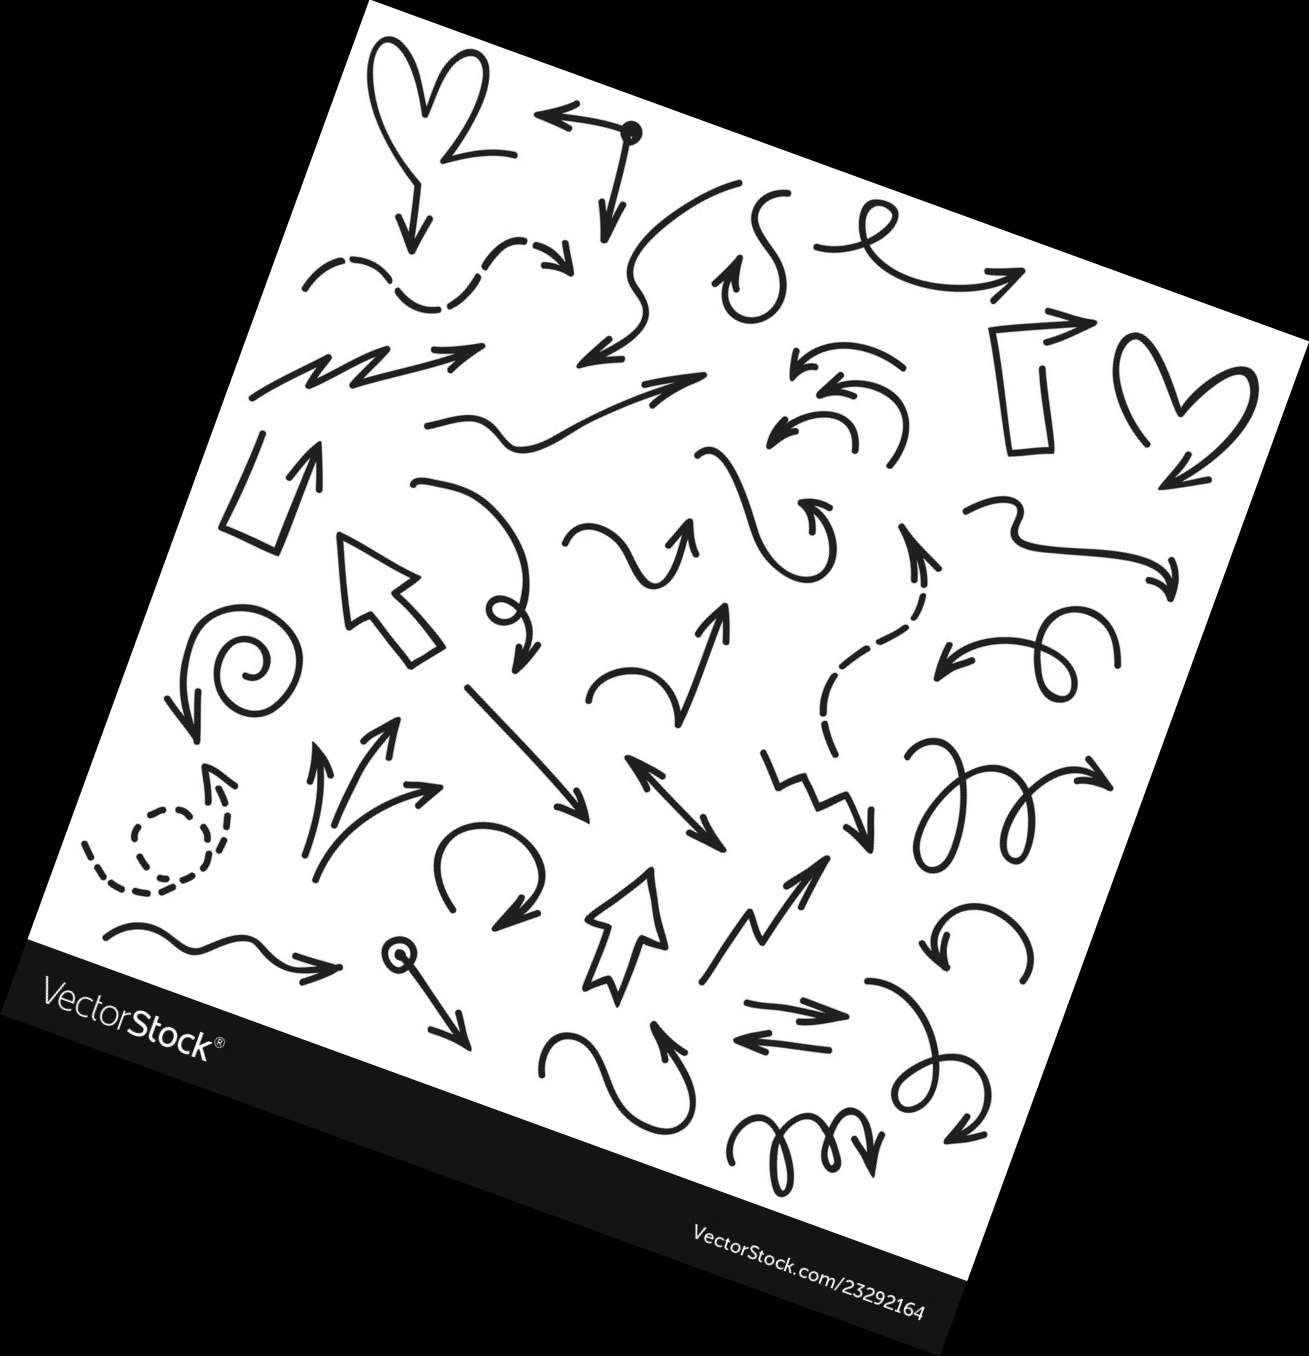arrow: (321, 532, 444, 679), (574, 855, 674, 1005), (1091, 538, 1189, 608), (748, 977, 861, 1038), (724, 1022, 829, 1086), (885, 518, 946, 627), (1150, 423, 1234, 498), (519, 749, 596, 831), (263, 930, 350, 1000), (681, 597, 735, 707), (1009, 297, 1109, 355), (157, 644, 209, 749), (639, 1016, 702, 1102), (279, 436, 328, 541), (565, 320, 664, 373), (618, 745, 688, 818), (618, 369, 714, 423), (936, 259, 1030, 314), (409, 990, 482, 1061), (924, 630, 1014, 686), (490, 857, 552, 940), (770, 851, 832, 929), (354, 708, 407, 797), (790, 492, 849, 570), (385, 182, 441, 262), (1030, 748, 1118, 798), (196, 755, 249, 837), (529, 88, 609, 140), (511, 223, 578, 283), (292, 732, 338, 818), (945, 1086, 1003, 1154), (653, 513, 706, 586), (707, 252, 756, 332), (589, 163, 632, 251), (400, 337, 486, 380), (760, 406, 836, 455), (850, 1105, 892, 1191), (670, 798, 729, 857), (913, 907, 961, 979), (366, 777, 450, 818), (509, 630, 552, 686), (836, 808, 885, 855)
